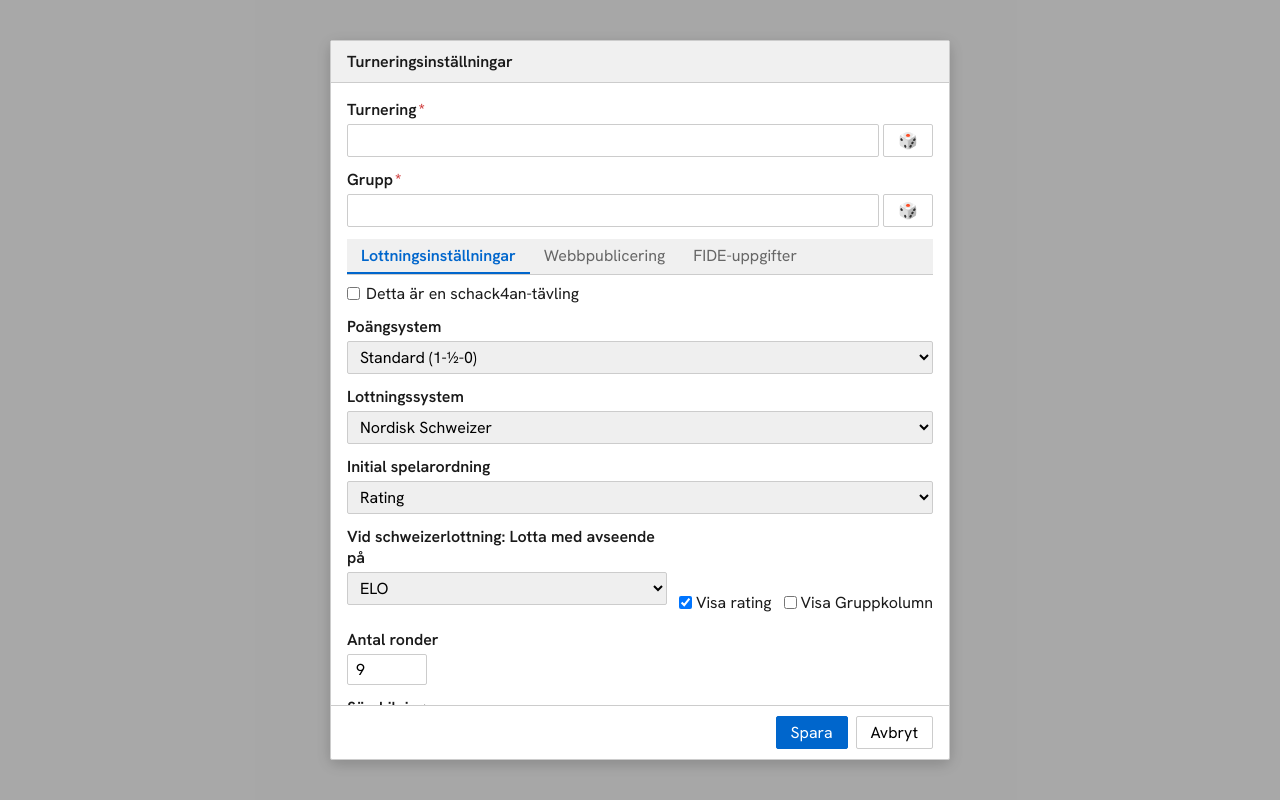
Test: TournamentDialog save validation › clears error when user types in name field
The width and height of the screenshot is (1280, 800).
Click the button "Spara" at (812, 732), box left=776, top=716, right=848, bottom=749
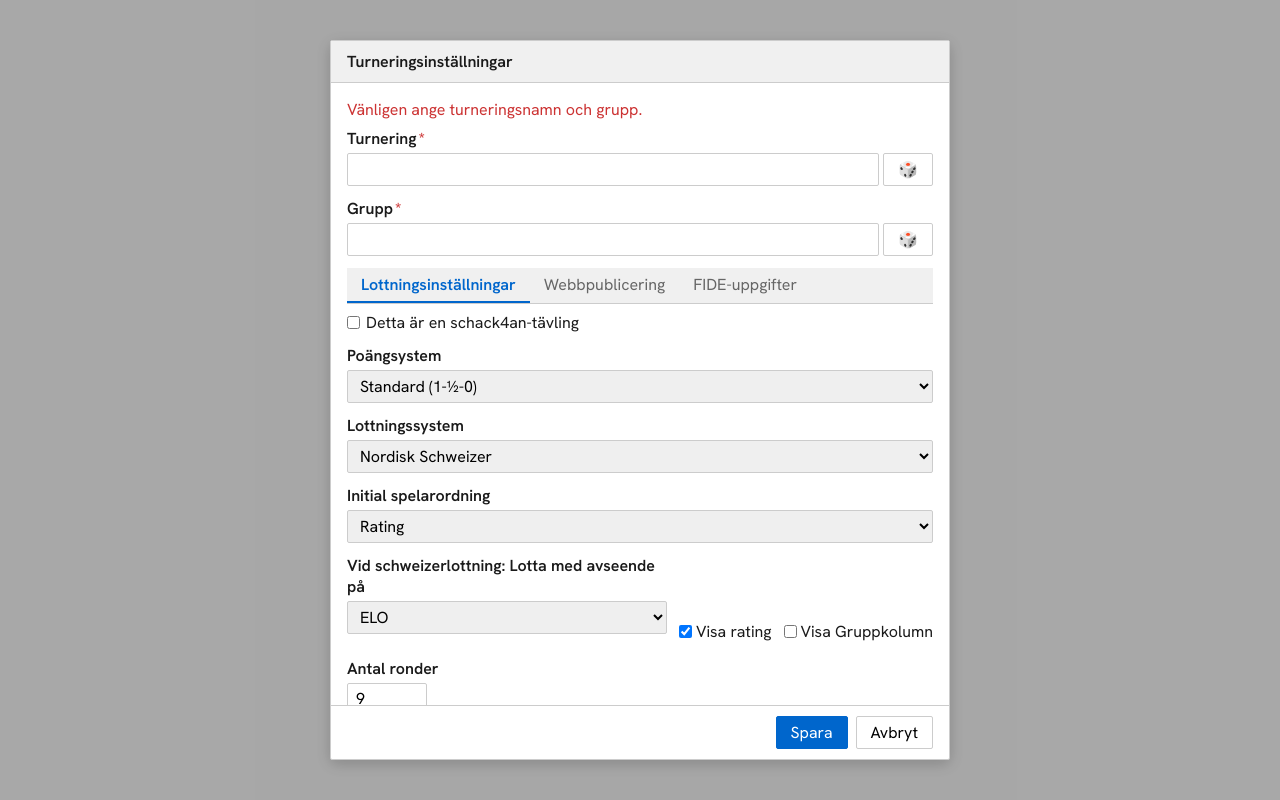
Now the text "Vänligen ange turneringsnamn och grupp." is shown, box left=347, top=99, right=642, bottom=120
Type "Test" into the field with test id "tournament-name-input" at (613, 170), box left=347, top=153, right=879, bottom=186
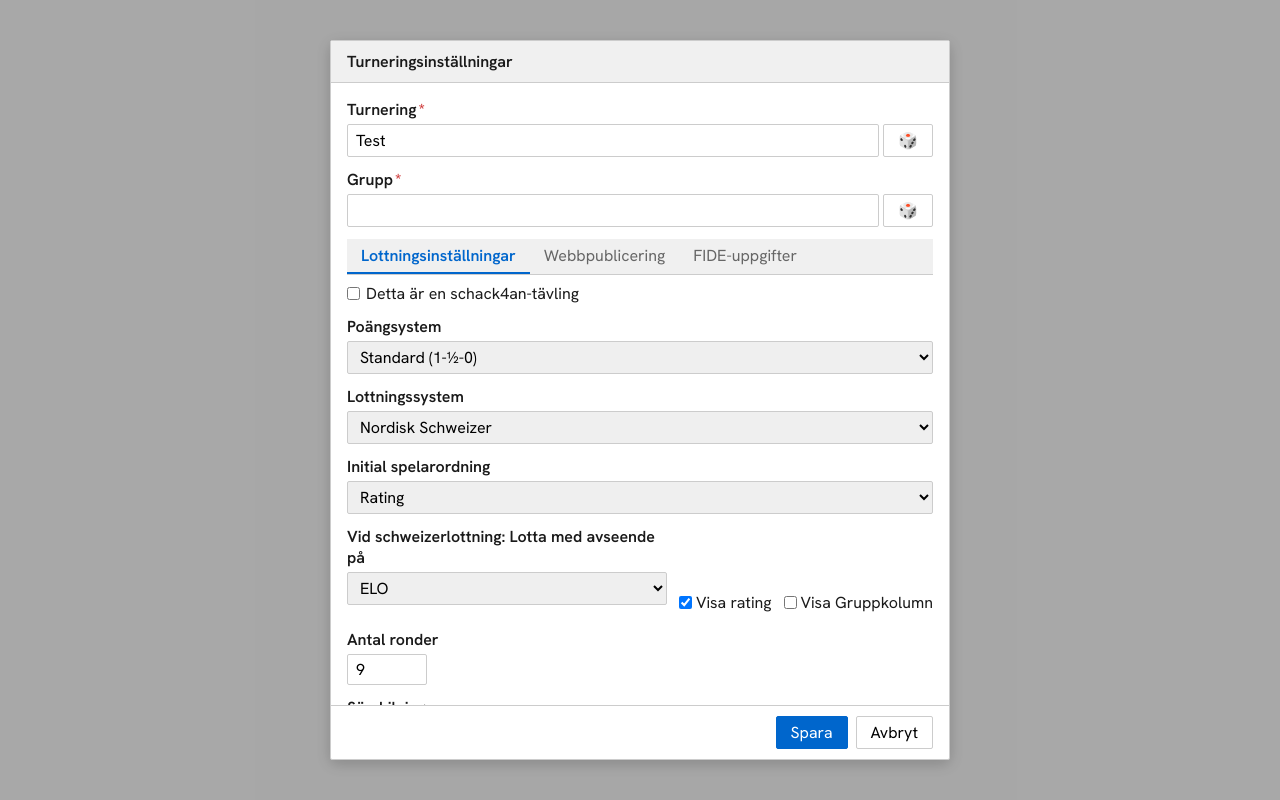
Now the text with test id "tournament-save-error" is gone
